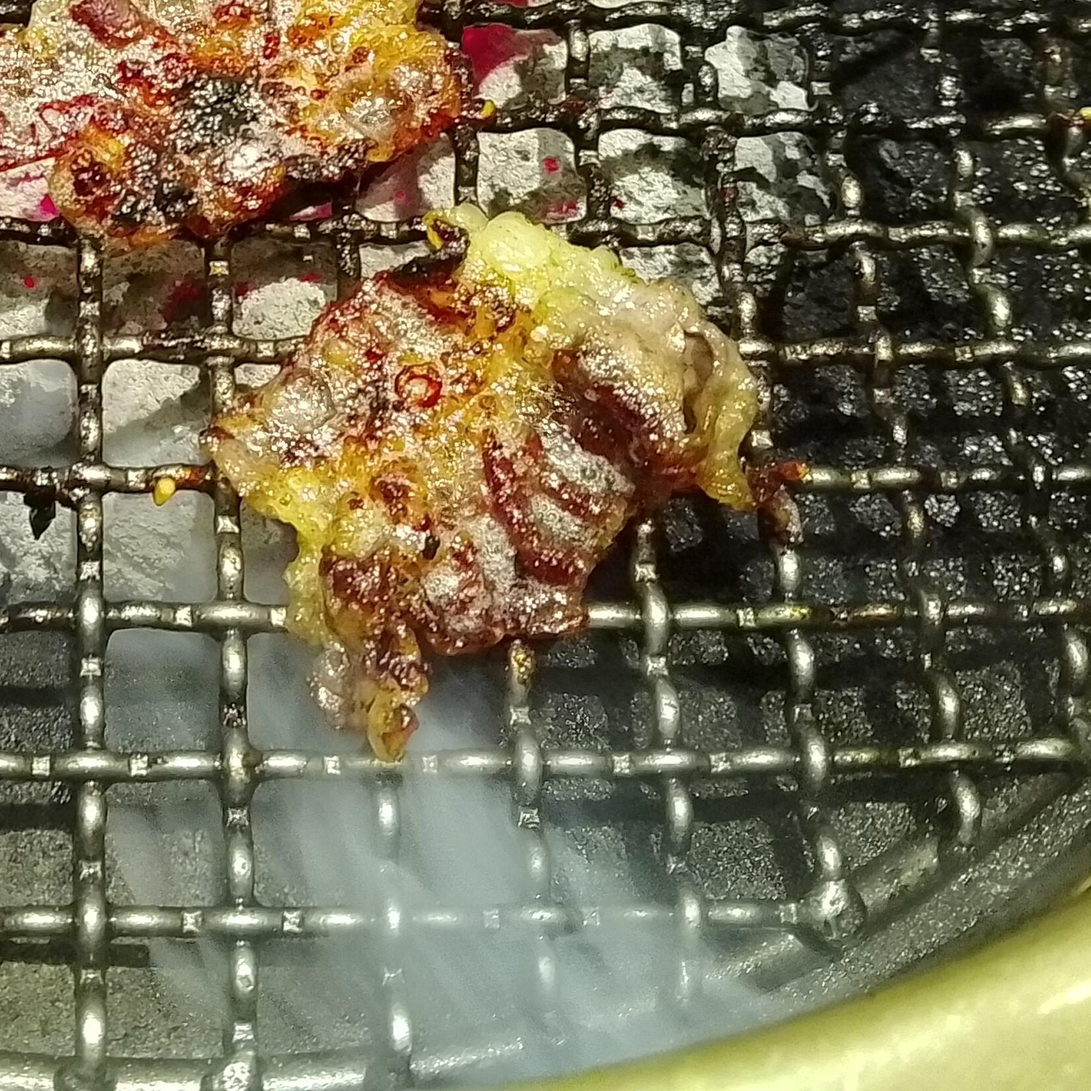Overcooked: (202, 207, 766, 754), (0, 0, 481, 246)
